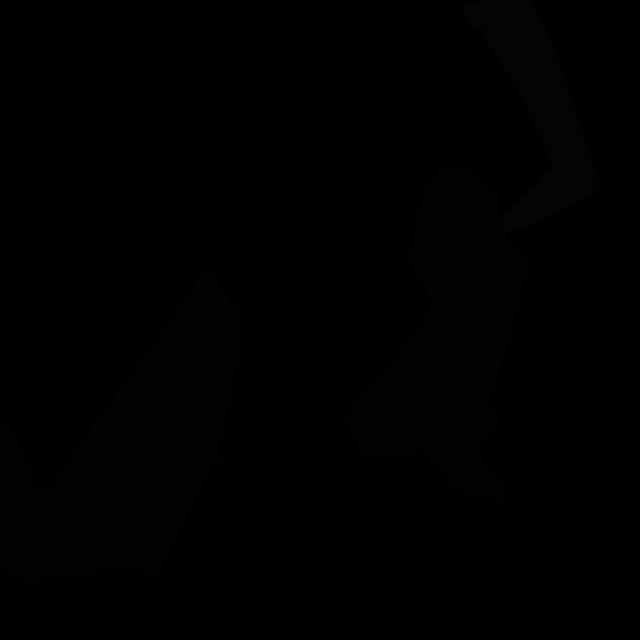cardboard: (0, 272, 243, 588), (398, 163, 528, 505), (342, 351, 422, 458)
soft_plastic: (463, 0, 601, 233)
